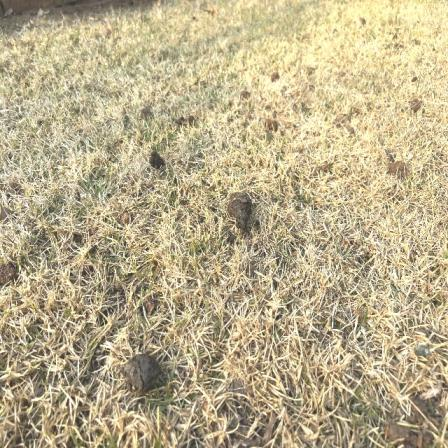dog-poop: (221, 186, 267, 236), (116, 349, 164, 394)
